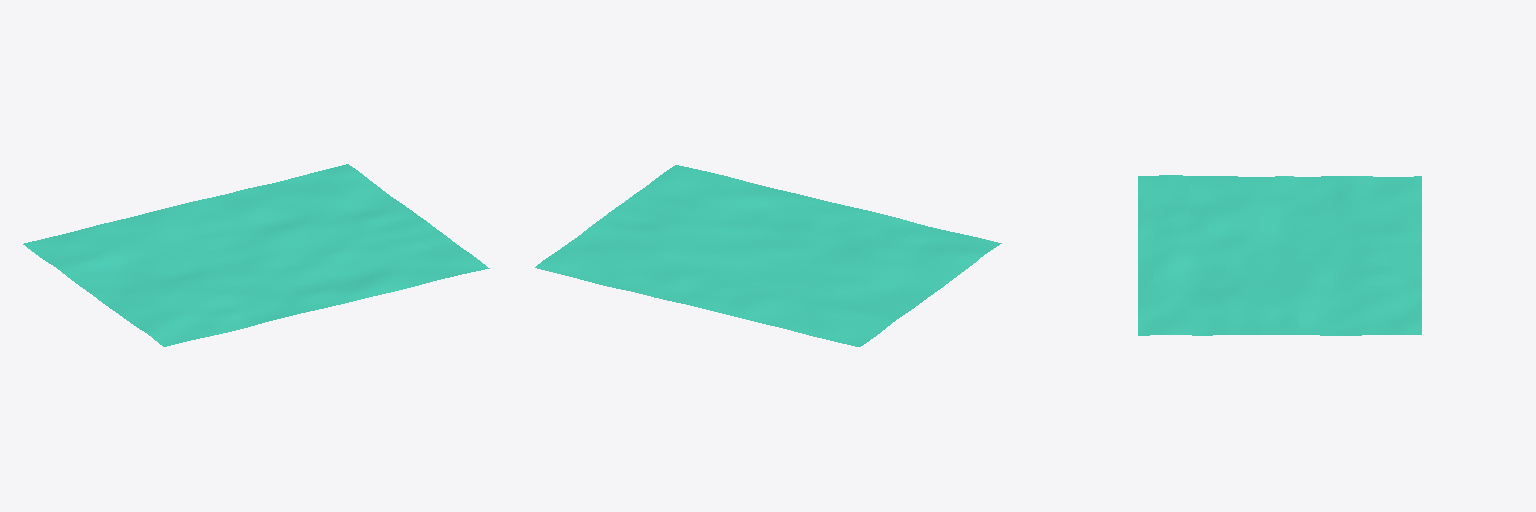
File: suelo.obj
3 renders of one model, left to right at view 1: azimuth 30°, elevation 25°; view 2: azimuth 150°, elevation 25°; view 3: azimuth 270°, elevation 25°, orthographic.
Visible parts, largest first — view 1: 4; view 2: 4; view 3: 4.
Boxes of the visible parts, x1=… form: 4: x1=23, y1=164, x2=489, y2=346; 4: x1=535, y1=165, x2=1001, y2=346; 4: x1=1138, y1=175, x2=1421, y2=335.
Size of the model in its own units: 1108 by 9.73 by 835.